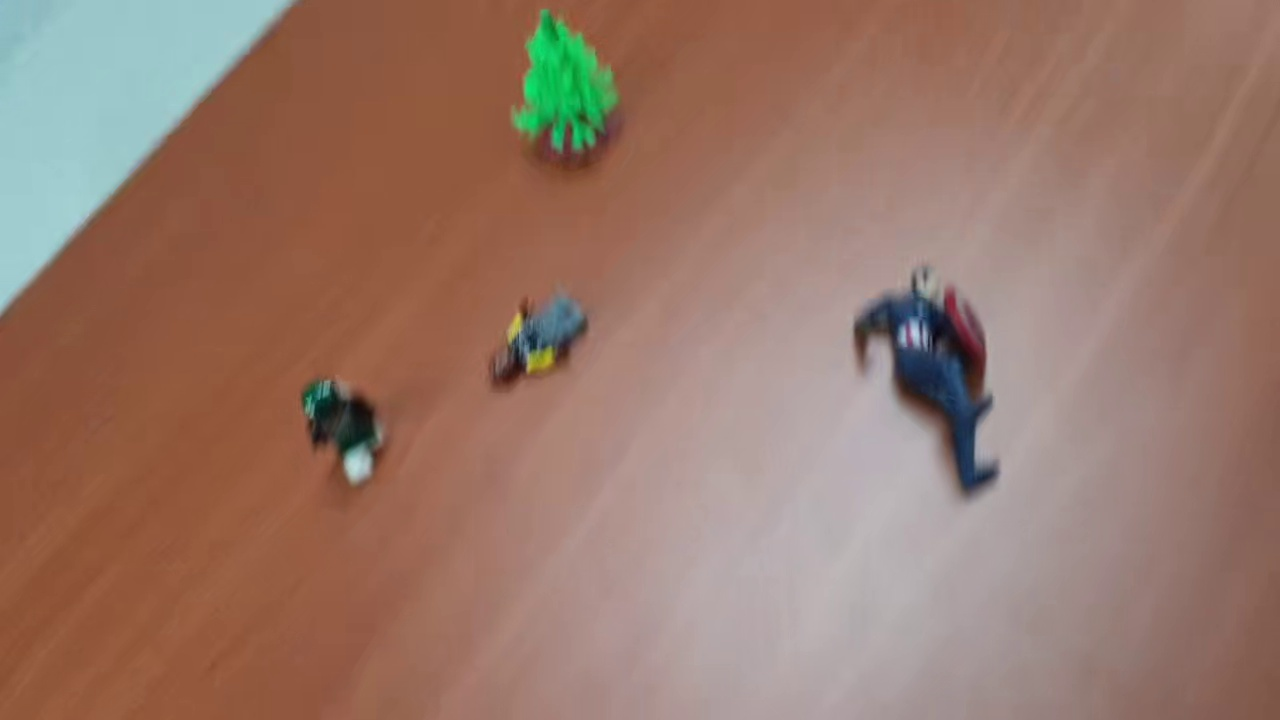people: (850, 262, 1005, 504), (301, 373, 401, 493), (487, 282, 588, 384)
tree: (506, 7, 621, 172)
